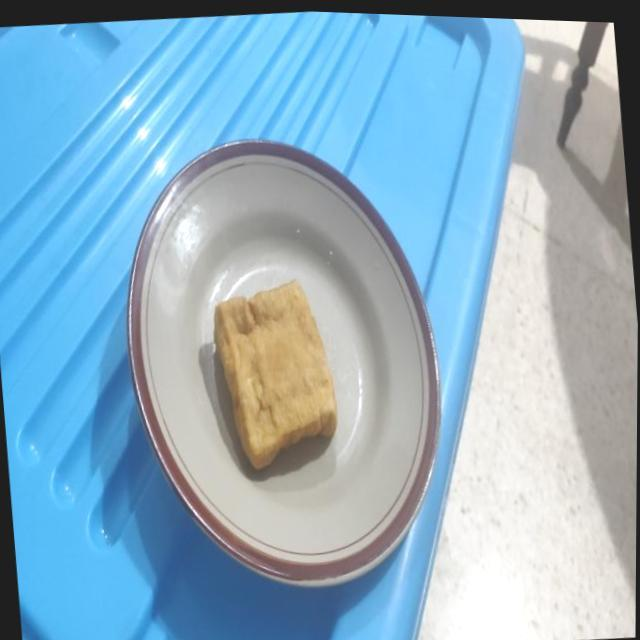tahu_goreng: (214, 279, 336, 468)
